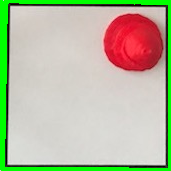Red Bishop: (104, 11, 164, 73)
